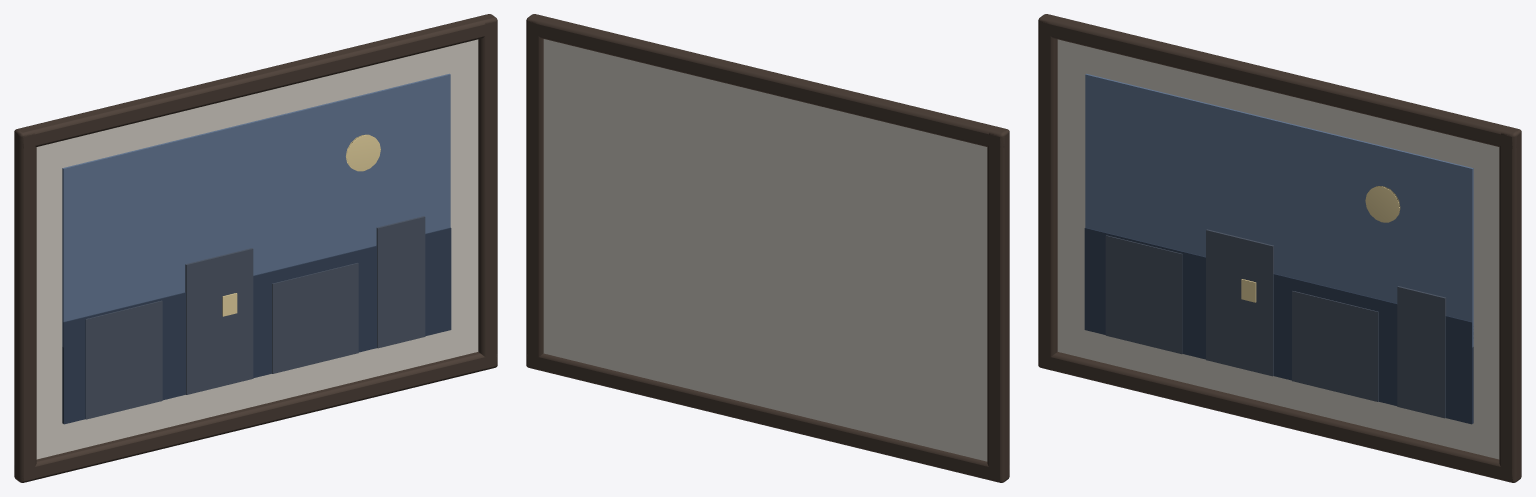
Rendered from poster.fbx.
The picture shows the model from 3 angles, left to right: view 1: azimuth 30°, elevation 25°; view 2: azimuth 150°, elevation 25°; view 3: azimuth 330°, elevation 25°; orthographic projection.
Parts seen in each view (by area): view 1: poster; view 2: poster; view 3: poster.
Part boxes in pixels (x1=…): poster: x1=14, y1=14, x2=497, y2=482; poster: x1=526, y1=14, x2=1009, y2=482; poster: x1=1038, y1=14, x2=1521, y2=482.
Bounding box in the file's own units: 1 × 0.03 × 0.7.
